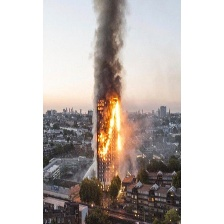fire: (94, 100, 126, 162)
smoke: (86, 1, 133, 99)
